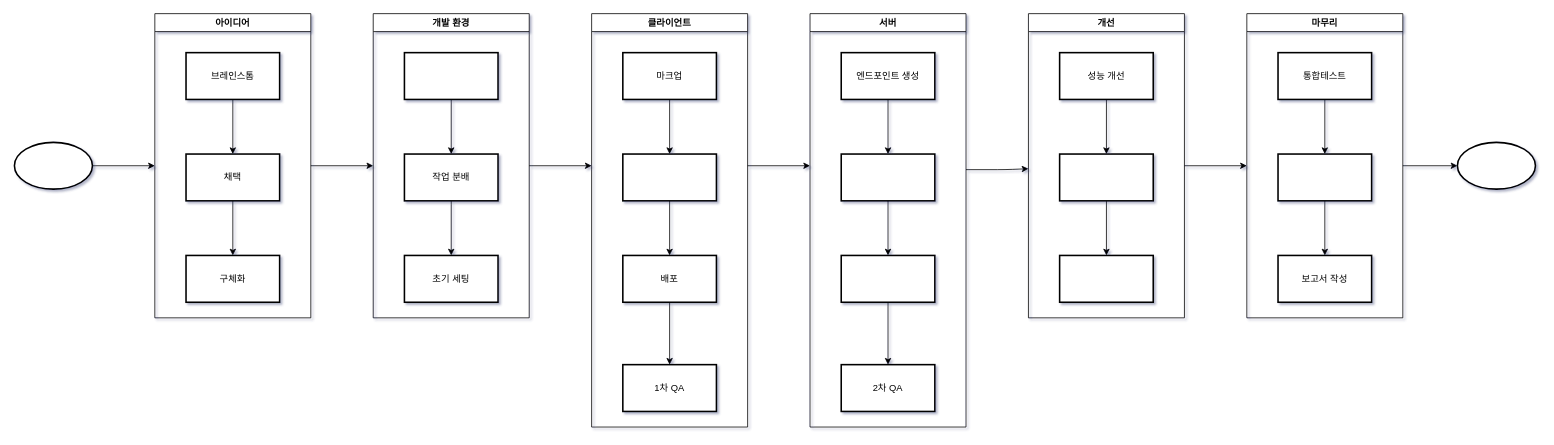
Image size: 1554x445. Some labels were removed from this diagram. The centre of each missing label's shape, as x and y in pixels:
AI API 연동: the point at 887,278
DB 연동: the point at 887,177
개발 컨벤션: the point at 450,75
기능 구현: the point at 669,177
디버깅: the point at 1324,177
시작: the point at 53,165
접근성 개선: the point at 1106,177
종료: the point at 1496,165
코드 리팩토링: the point at 1106,278
